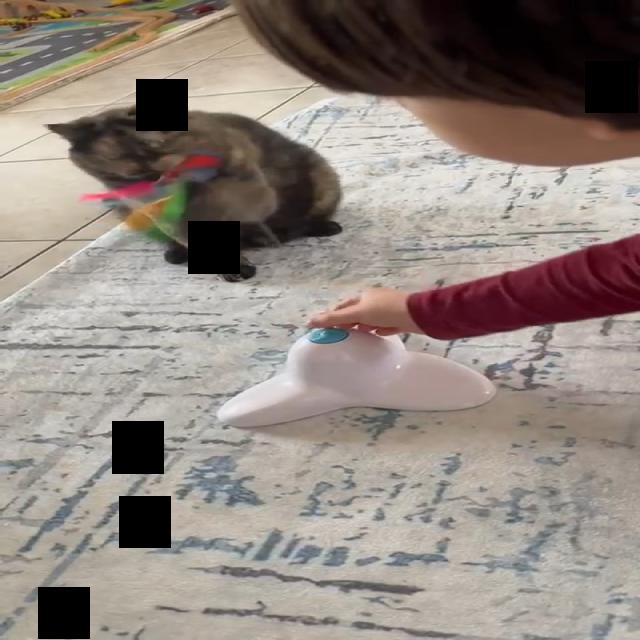authorized: (43, 93, 344, 282)
